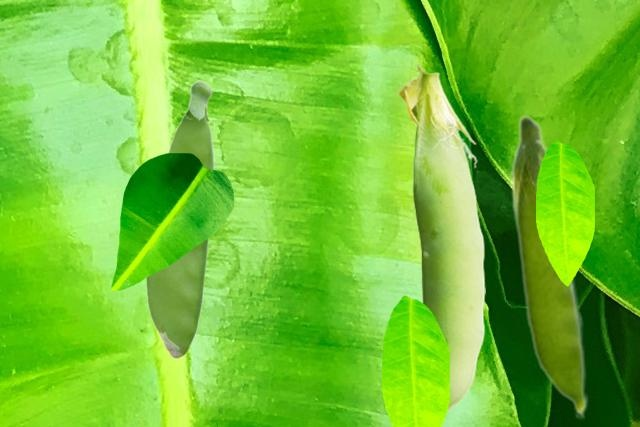pea: (397, 62, 484, 414), (510, 113, 588, 418), (145, 79, 214, 358)
